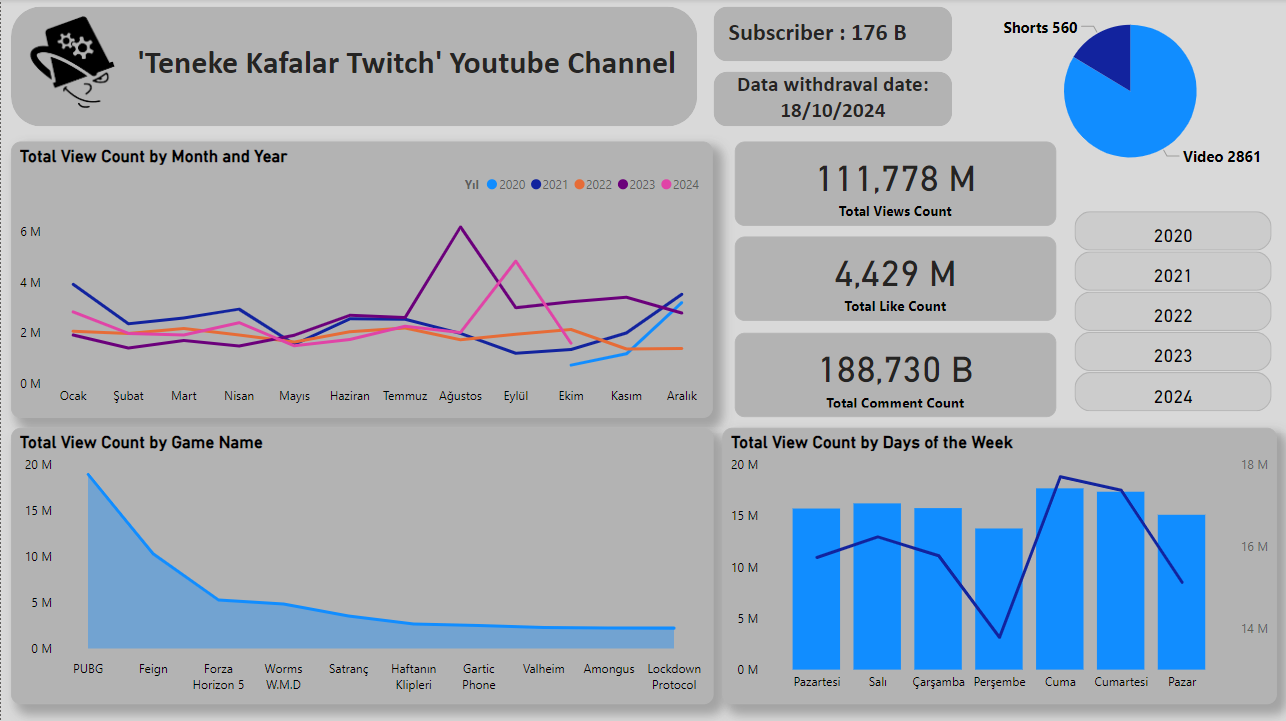

The dashboard page shown, as its layout file describes it:
{"tool":"powerbi","page":{"name":"Teneke Kafalar","canvas":[1280,720],"ordinal":0},"visuals":[{"type":"shape","box":[10,7.5,682.9,119.4],"z":0},{"type":"textbox","box":[130.6,38.6,562.3,56],"z":1000},{"type":"image","box":[10,7.5,130.6,119.4],"z":2000},{"type":"shape","box":[709.1,7.5,237.6,54.7],"z":3000},{"type":"shape","box":[709.1,72.1,237.6,54.7],"z":4000},{"type":"textbox","box":[719,12.4,220.2,54.7],"z":5000},{"type":"textbox","box":[717.8,67.2,220.2,64.7],"z":6000},{"type":"pieChart","fields":{"Category":["Teneke_Kafalar_Twitch.Type"],"Y":["CountNonNull(Teneke_Kafalar_Twitch.Type)"]},"box":[967.5,0,312.5,183.8],"z":7000},{"type":"lineChart","title":"Total View Count by Month and Year","fields":{"Category":["Teneke_Kafalar_Twitch.Published At.Varyasyon.Tarih Hiyerarşisi.Ay"],"Y":["Sum(Teneke_Kafalar_Twitch.View Count)"],"Series":["Teneke_Kafalar_Twitch.Published At.Varyasyon.Tarih Hiyerarşisi.Yıl"]},"box":[10,141.2,698.8,275],"z":8000},{"type":"areaChart","title":"Total View Count by Game Name","fields":{"Category":["Teneke_Kafalar_Twitch.Game Name"],"Y":["Sum(Teneke_Kafalar_Twitch.View Count)"]},"box":[10,427,699,275],"z":9000},{"type":"lineClusteredColumnComboChart","title":"Total View Count by Days of the Week","fields":{"Category":["Teneke_Kafalar_Twitch.Day Name"],"Y":["Sum(Teneke_Kafalar_Twitch.View Count)"],"Y2":["Sum(Teneke_Kafalar_Twitch.View Count)"]},"box":[717.8,426.7,552.3,274.9],"z":10000},{"type":"card","fields":{"Values":["Sum(Teneke_Kafalar_Twitch.View Count)"]},"box":[730,141.2,320,83.8],"z":10001},{"type":"card","fields":{"Values":["Sum(Teneke_Kafalar_Twitch.Like Count)"]},"box":[730,236.2,320,83.8],"z":10002},{"type":"card","fields":{"Values":["Sum(Teneke_Kafalar_Twitch.Comment Count)"]},"box":[730,332.5,320,83.8],"z":10003},{"type":"advancedSlicerVisual","fields":{"Values":["Teneke_Kafalar_Twitch.Published At.Varyasyon.Tarih Hiyerarşisi.Yıl"]},"box":[1063.8,206.2,206.2,210],"z":10004}]}

Visuals, with their boxes in screenshot pixels (x1, y1, x2, y2), scaled from the page's 1280x720 canvas onto the 1286x721 screenshot:
shape: (left=10, top=8, right=696, bottom=127)
textbox: (left=131, top=39, right=696, bottom=95)
image: (left=10, top=8, right=141, bottom=127)
shape: (left=712, top=8, right=951, bottom=62)
shape: (left=712, top=72, right=951, bottom=127)
textbox: (left=722, top=12, right=944, bottom=67)
textbox: (left=721, top=67, right=942, bottom=132)
pieChart - Teneke_Kafalar_Twitch.Type x CountNonNull(Teneke_Kafalar_Twitch.Type): (left=972, top=0, right=1285, bottom=184)
"Total View Count by Month and Year" lineChart: (left=10, top=141, right=712, bottom=417)
"Total View Count by Game Name" areaChart: (left=10, top=428, right=712, bottom=703)
"Total View Count by Days of the Week" lineClusteredColumnComboChart: (left=721, top=427, right=1276, bottom=703)
card - Sum(Teneke_Kafalar_Twitch.View Count): (left=733, top=141, right=1055, bottom=225)
card - Sum(Teneke_Kafalar_Twitch.Like Count): (left=733, top=237, right=1055, bottom=320)
card - Sum(Teneke_Kafalar_Twitch.Comment Count): (left=733, top=333, right=1055, bottom=417)
advancedSlicerVisual - Teneke_Kafalar_Twitch.Published At.Varyasyon.Tarih Hiyerarşisi.Yıl: (left=1069, top=206, right=1276, bottom=417)
